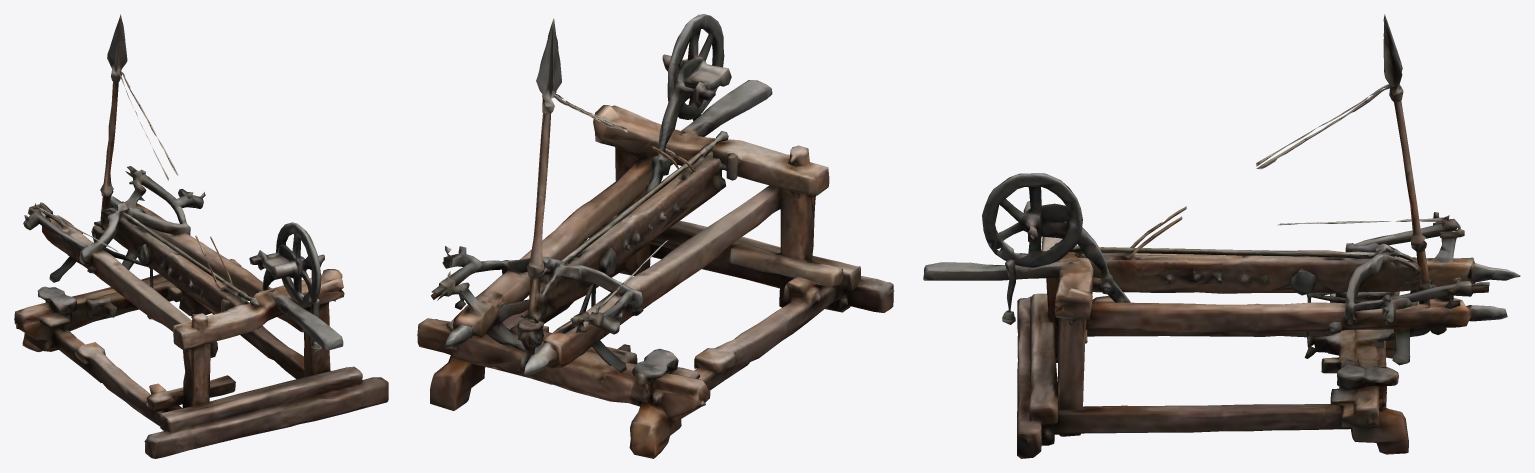
The model's file is ballista-low.glb.
The picture shows the model from 3 angles, left to right: view 1: azimuth 30°, elevation 25°; view 2: azimuth 150°, elevation 25°; view 3: azimuth 270°, elevation 25°; orthographic projection. The views are drawn at different scales.
Size of the model in its own units: 0.5627 by 0.7198 by 0.9993.
1 material, 1 textured.
